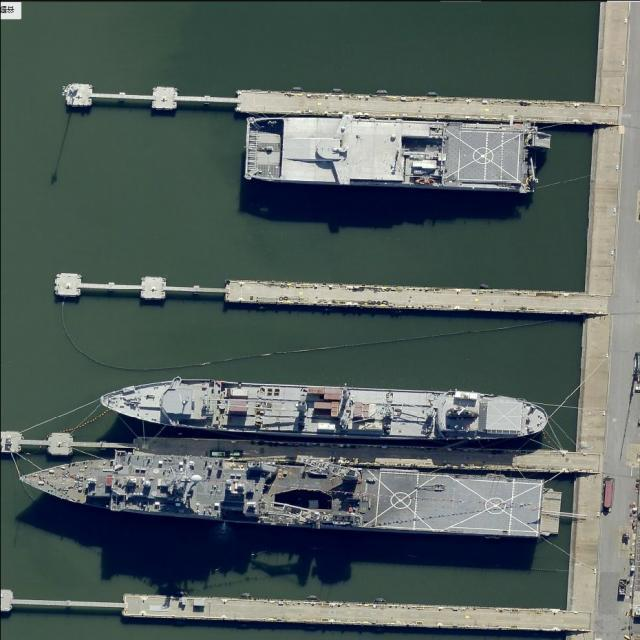Auxiliary Ships: (244, 109, 534, 193)
Dock: (133, 435, 576, 473), (122, 594, 567, 631), (238, 89, 593, 125), (226, 281, 584, 314)
Landing: (17, 442, 565, 541)
Other Warship: (96, 374, 553, 449)
